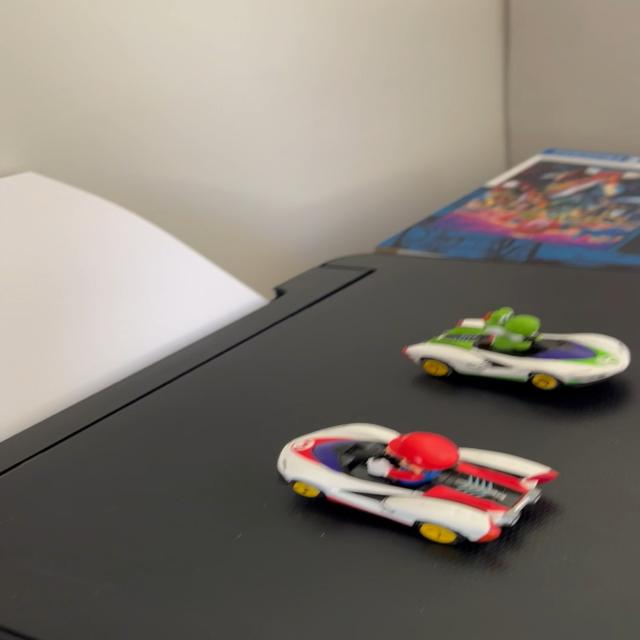mario: (263, 414, 582, 544)
yoshi: (394, 298, 640, 398)
